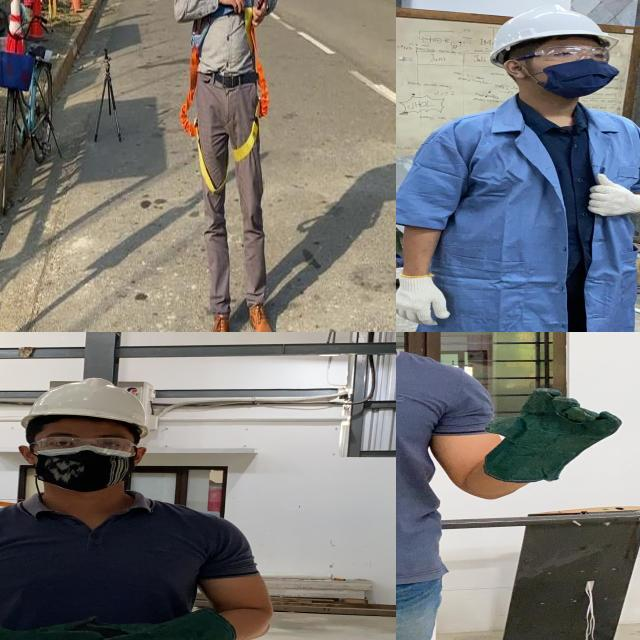Harness: (179, 45, 227, 195), (233, 25, 270, 164), (191, 0, 254, 54)
face_mask: (24, 430, 142, 488), (527, 40, 623, 91)
glasses: (509, 42, 615, 64), (27, 435, 139, 455)
hand_glove: (484, 387, 626, 465), (396, 271, 456, 326), (579, 170, 640, 220), (3, 618, 103, 640), (82, 619, 177, 640)
head_helmet: (18, 373, 155, 432), (486, 2, 622, 52)
person: (396, 5, 640, 332), (0, 375, 297, 640), (396, 332, 567, 640)
